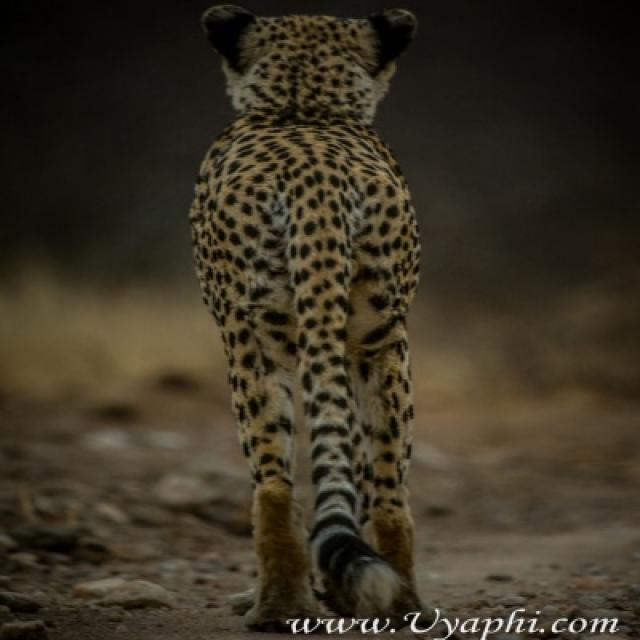Cheetah: (189, 5, 421, 629)
